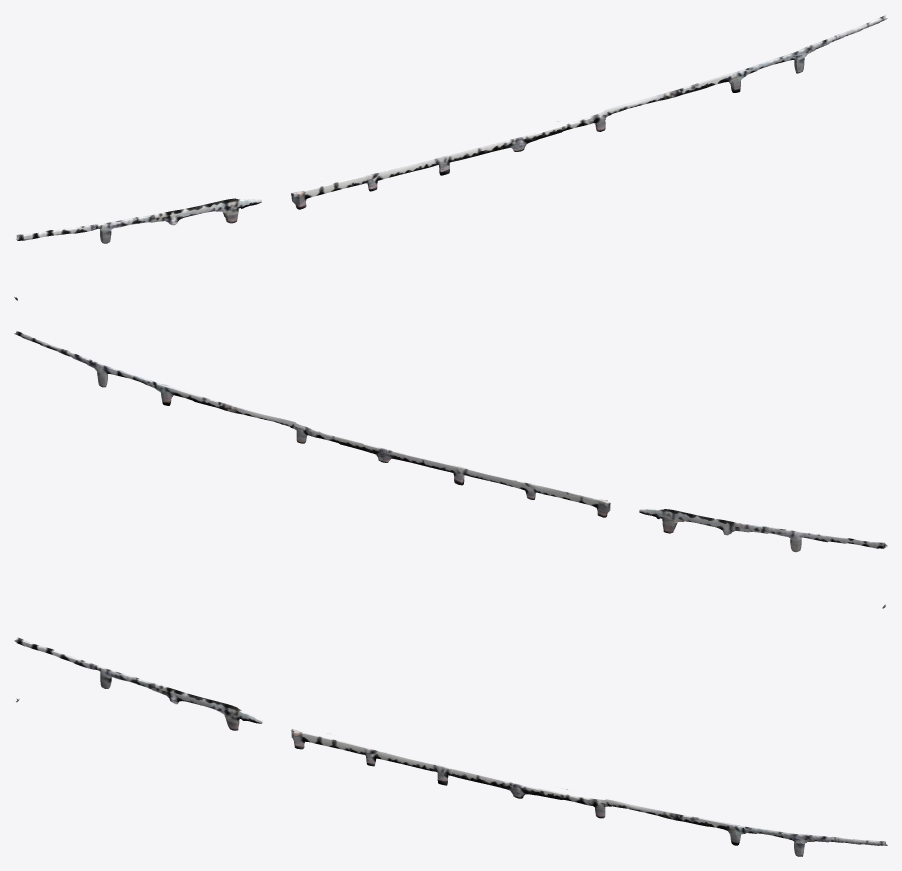
The model's file is fork-bulbs.glb.
The picture shows the model from 3 angles, top to bottom: view 1: azimuth 30°, elevation 25°; view 2: azimuth 150°, elevation 25°; view 3: azimuth 330°, elevation 25°; orthographic projection.
Visible parts, largest first — view 1: p1_light_bulbs; view 2: p1_light_bulbs; view 3: p1_light_bulbs.
Part boxes in pixels (bbox=[...]): p1_light_bulbs: bbox=[14, 14, 887, 300]; p1_light_bulbs: bbox=[14, 329, 887, 608]; p1_light_bulbs: bbox=[14, 637, 887, 856].
Bounding box in the file's own units: 14.06 × 1.08 × 0.2419.
1 material, 1 textured.
